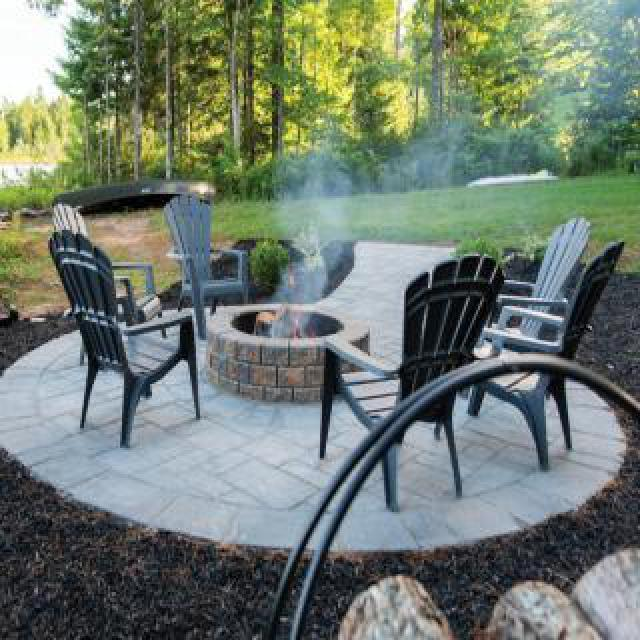Fire: (254, 310, 276, 344)
Smoke: (274, 140, 352, 330)
